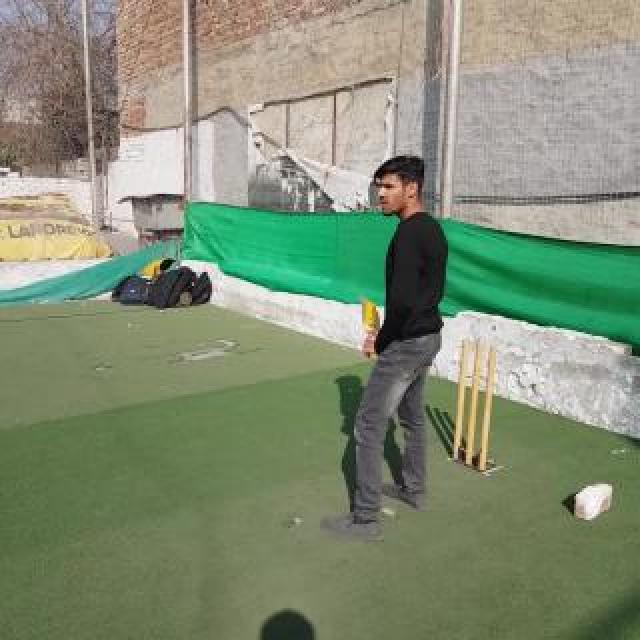bat: (359, 294, 379, 360)
